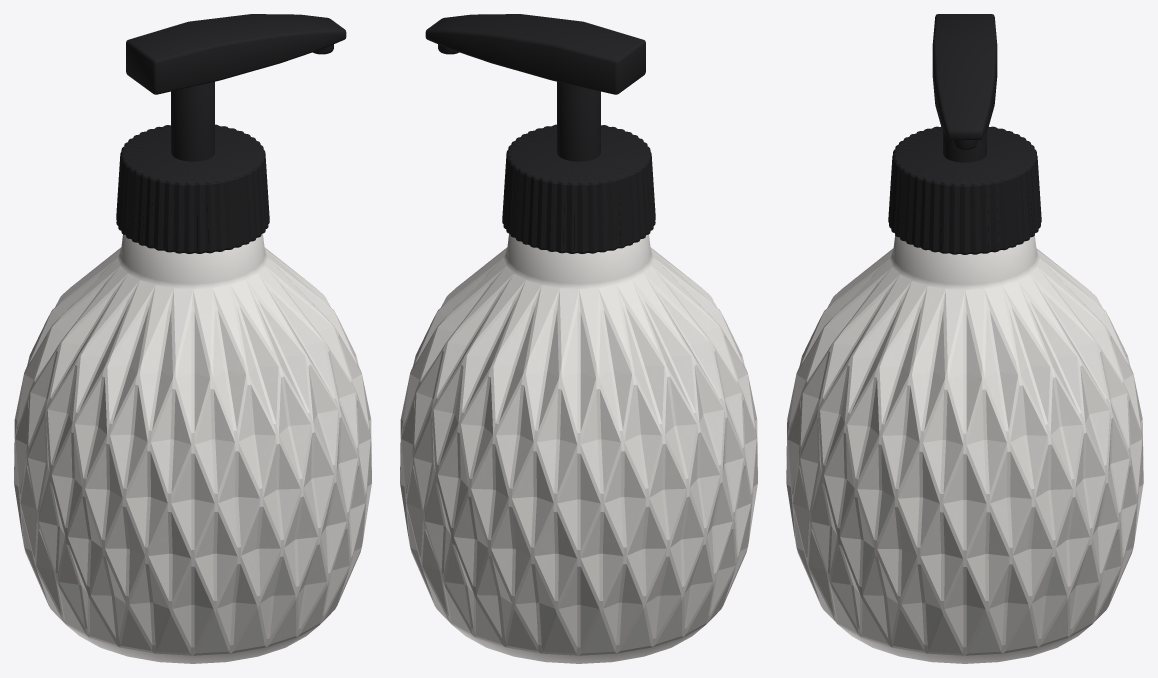
File: limex-bottle-white.glb
3 renders of one model, left to right at view 1: azimuth 30°, elevation 25°; view 2: azimuth 150°, elevation 25°; view 3: azimuth 270°, elevation 25°, orthographic.
Visible parts, largest first — view 1: LimexBottleWhite; view 2: LimexBottleWhite; view 3: LimexBottleWhite.
Boxes of the visible parts, x1,y1,x2,y2 form: LimexBottleWhite: (14, 14, 371, 663); LimexBottleWhite: (400, 14, 757, 663); LimexBottleWhite: (786, 14, 1143, 663).
Size of the model in its own units: 0.1106 by 0.1959 by 0.1106.
1 material, 1 textured.
